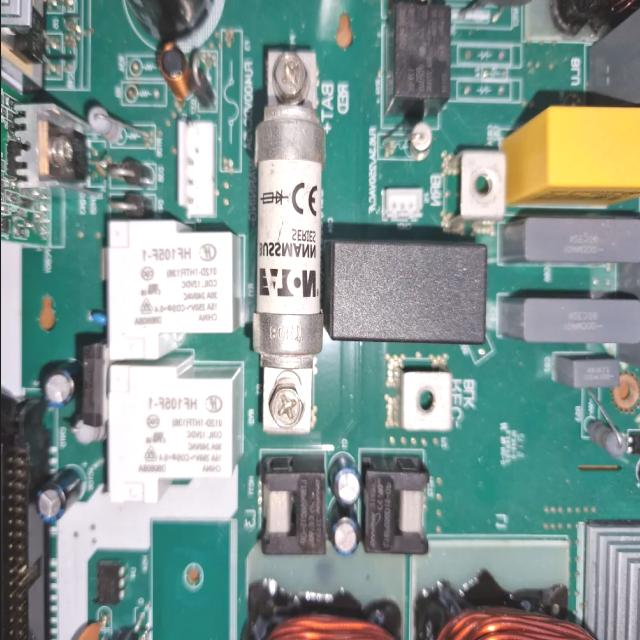A: (418, 603, 602, 640), (260, 606, 402, 640)
B: (253, 48, 322, 432)
C: (90, 0, 210, 40)
G: (585, 522, 640, 640)
